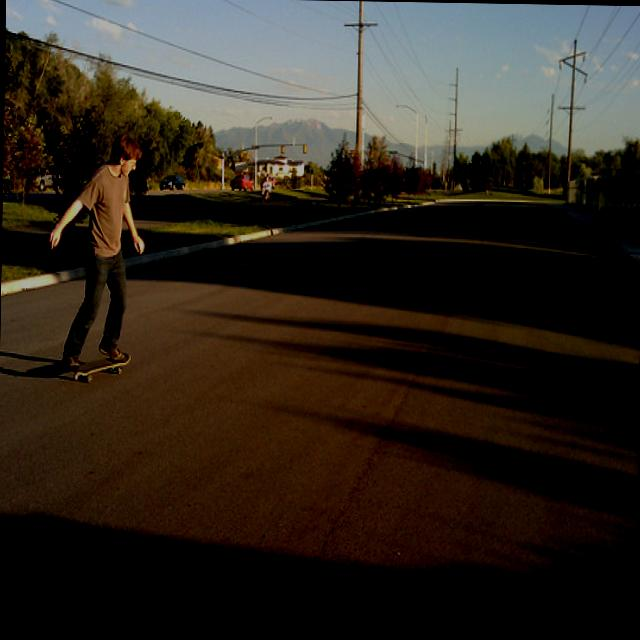Vehicle: (158, 173, 185, 190), (230, 174, 254, 192)
